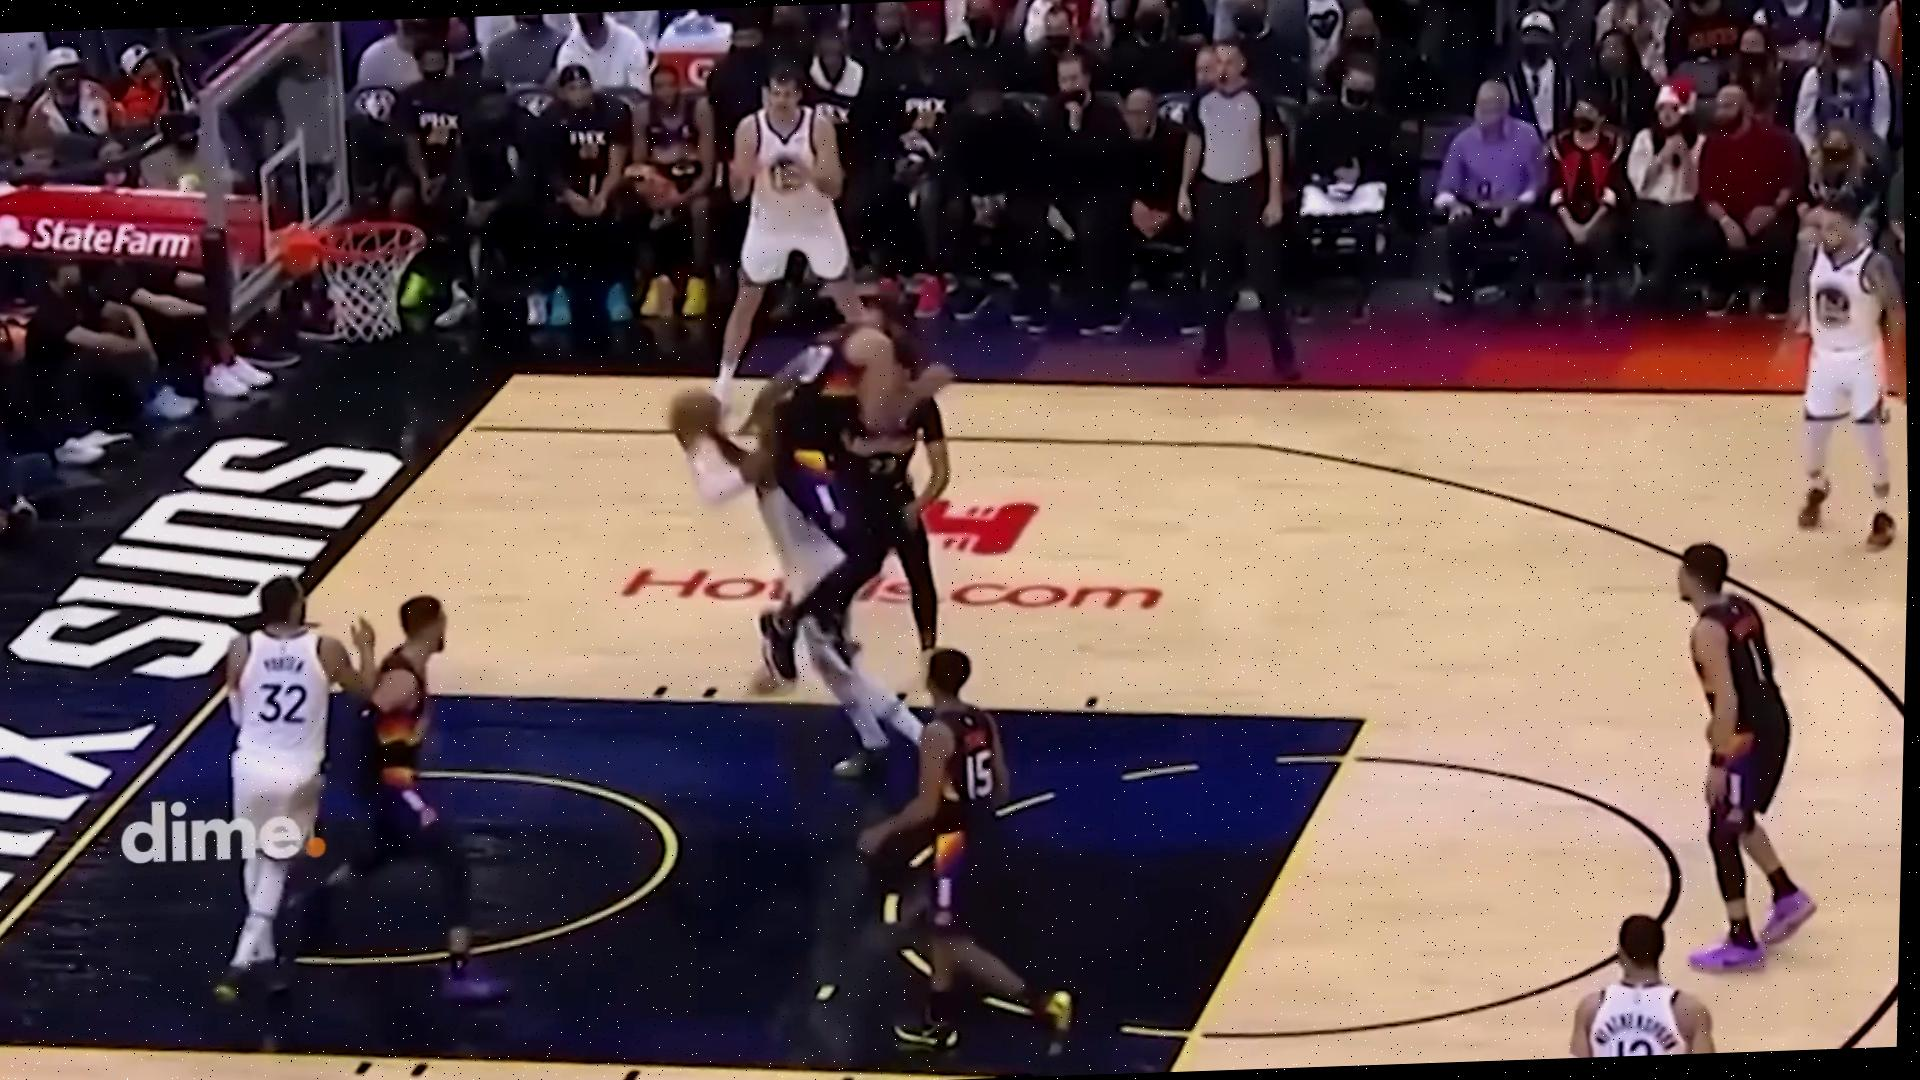foul: (684, 273, 972, 724)
